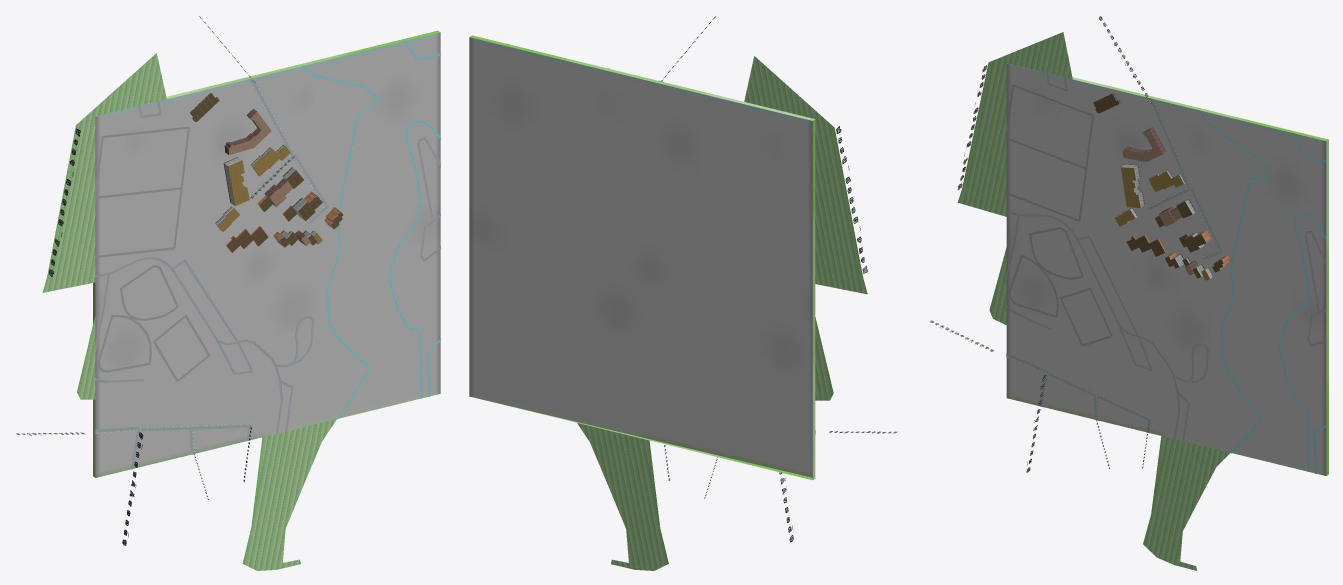
The picture shows the model from 3 angles, left to right: view 1: azimuth 30°, elevation 25°; view 2: azimuth 150°, elevation 25°; view 3: azimuth 330°, elevation 25°; orthographic projection. The views are drawn at different scales.
Parts seen in each view (by area): view 1: POLYGON, POLYLINE, BUILDING, FONT; view 2: POLYGON, FONT; view 3: POLYGON, POLYLINE, BUILDING, FONT.
Part boxes in pixels (box(x1,y1,x2,y2)): POLYGON: box(42, 30, 440, 570); POLYLINE: box(95, 41, 440, 469); BUILDING: box(190, 93, 343, 252); FONT: box(16, 16, 294, 545); POLYGON: box(469, 35, 867, 570); FONT: box(661, 16, 897, 542); POLYGON: box(958, 32, 1328, 570); POLYLINE: box(1006, 73, 1326, 473); BUILDING: box(1093, 93, 1229, 280); FONT: box(930, 16, 1187, 472).
Bounding box in the file's own units: 755 × 973 × 29.
Materials: 3 (3 with a texture image).
